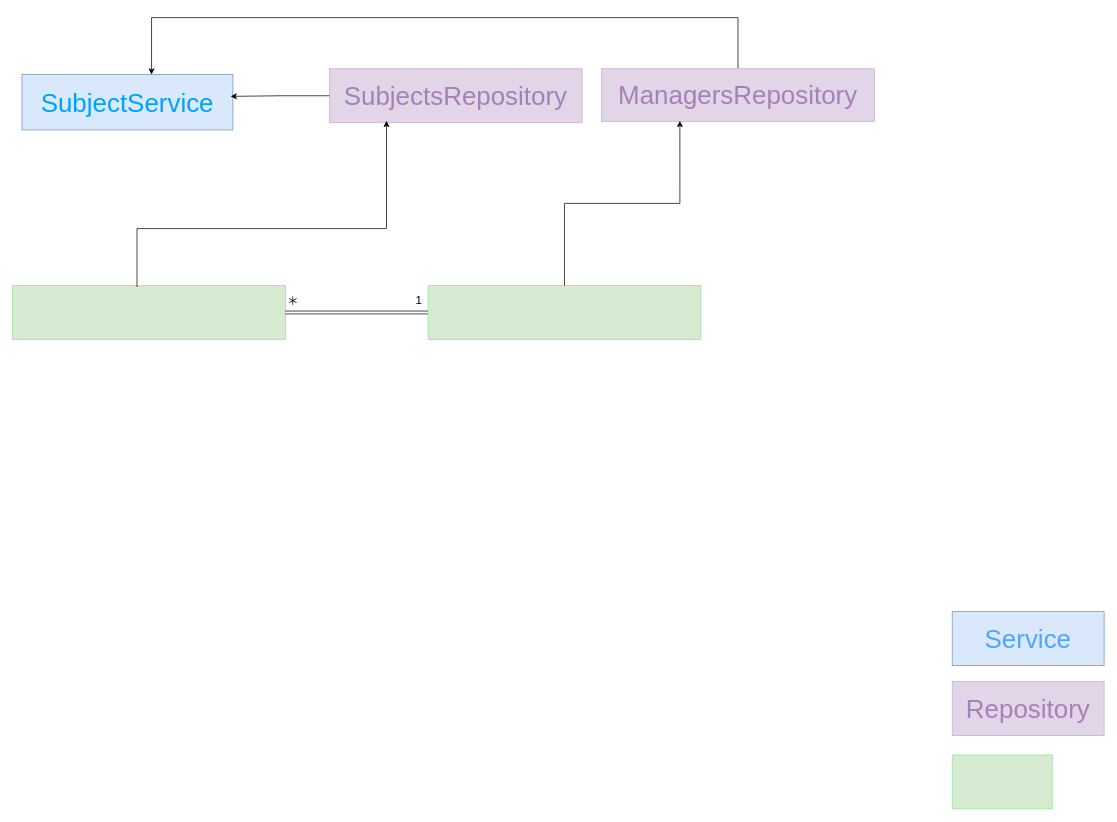
The diagram is 1117 pixels wide and 822 high, and some of its shapes have lost their labels. The centre of each missing label's shape, as x and y in pixels:
Entity: point 1001,781
Manager: point 564,312
Subject: point 148,312
